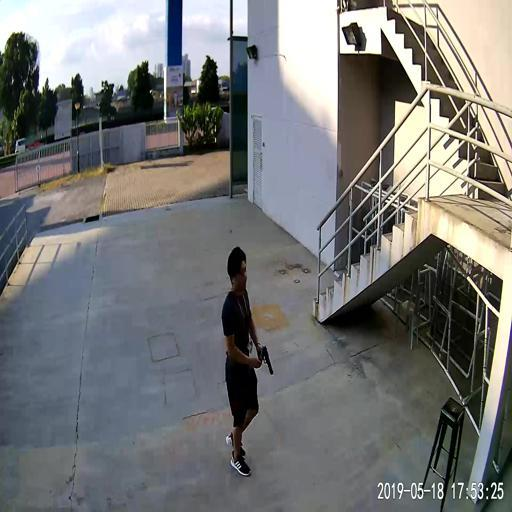Handgun: (256, 344, 272, 375)
